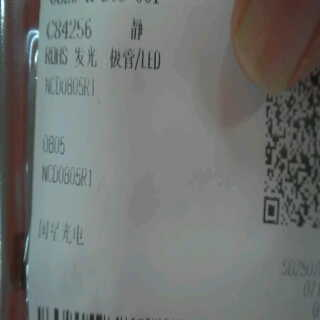LED: (72, 44, 168, 73)
